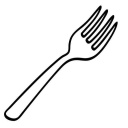fork: (1, 6, 123, 123)
